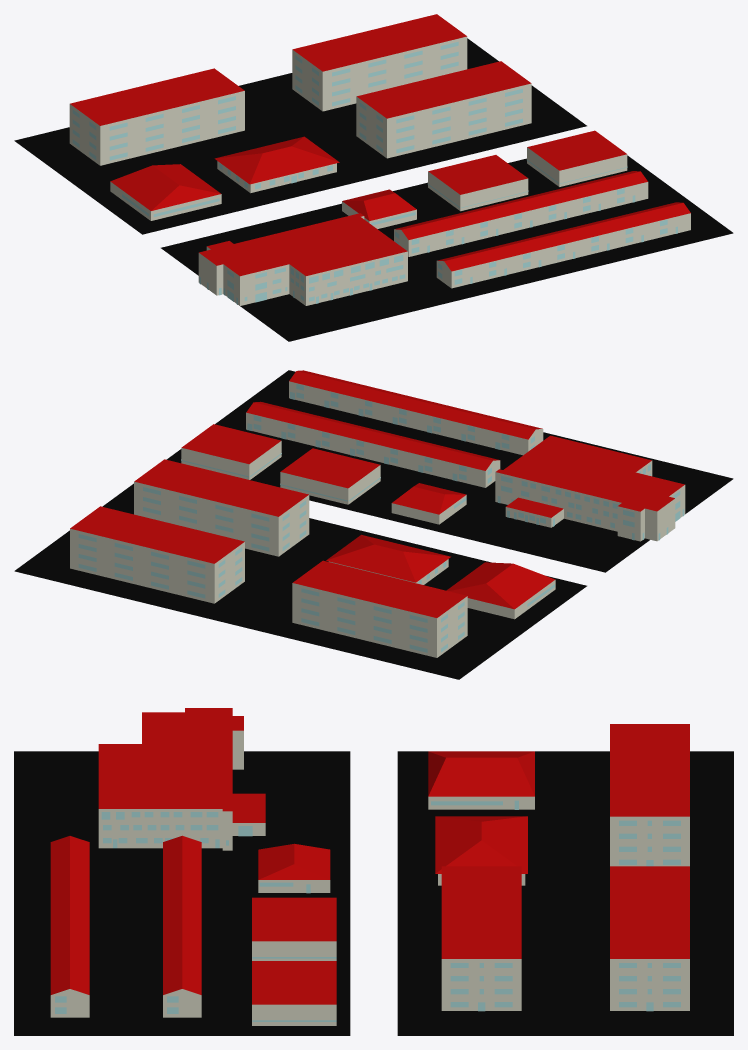
The picture shows the model from 3 angles, top to bottom: view 1: azimuth 30°, elevation 25°; view 2: azimuth 150°, elevation 25°; view 3: azimuth 270°, elevation 25°; orthographic projection. The views are drawn at different scales.
Parts seen in each view (by area): view 1: Ground, Roofs, Walls, Windows; view 2: Roofs, Ground, Walls, Windows; view 3: Ground, Roofs, Walls, Windows.
Boxes of the visible parts, x1,y1,x2,y2 form: Ground: [14, 38, 733, 341]; Roofs: [70, 14, 690, 276]; Walls: [69, 36, 690, 305]; Windows: [72, 41, 677, 304]; Roofs: [70, 370, 684, 617]; Ground: [14, 370, 733, 679]; Walls: [70, 381, 685, 657]; Windows: [78, 384, 684, 652]; Ground: [14, 751, 733, 1035]; Roofs: [50, 708, 689, 1004]; Walls: [50, 730, 689, 1025]; Windows: [55, 800, 680, 1021].
Size of the model in its own units: 145 by 14.32 by 152.
